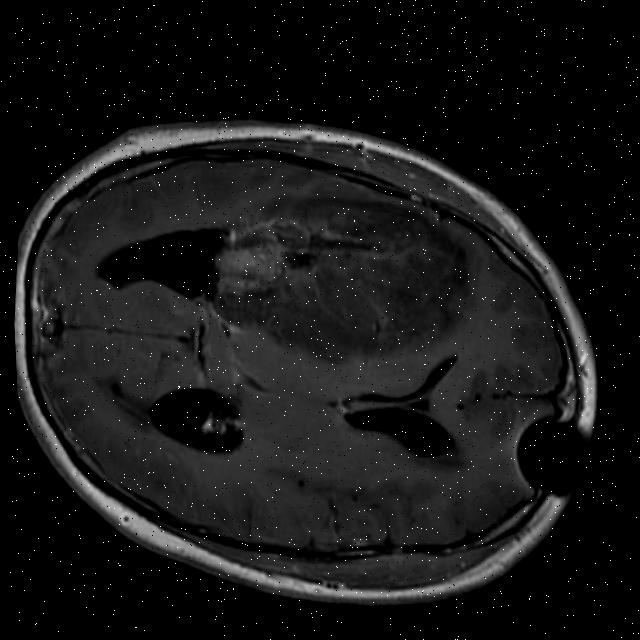Glioma: (204, 176, 480, 380)
